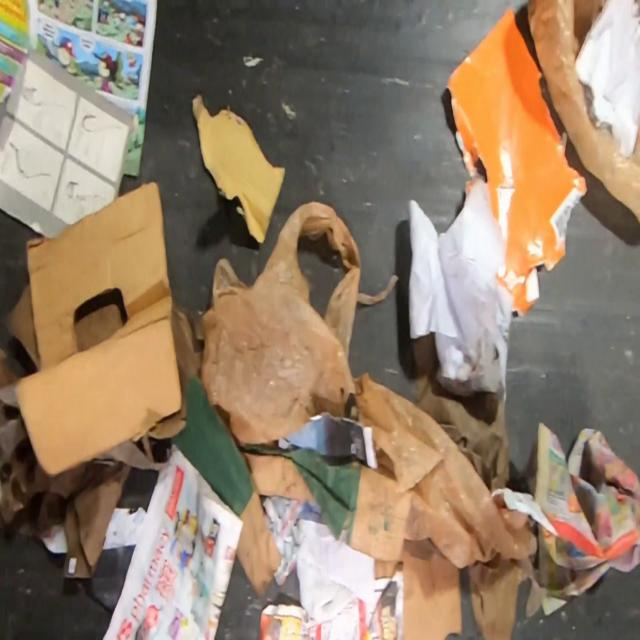cardboard: (12, 180, 184, 479), (444, 4, 588, 320), (190, 91, 288, 246), (374, 538, 464, 640), (277, 412, 379, 471), (1, 278, 38, 370)
soft_plastic: (350, 370, 550, 640), (198, 200, 365, 451), (526, 0, 640, 228)
